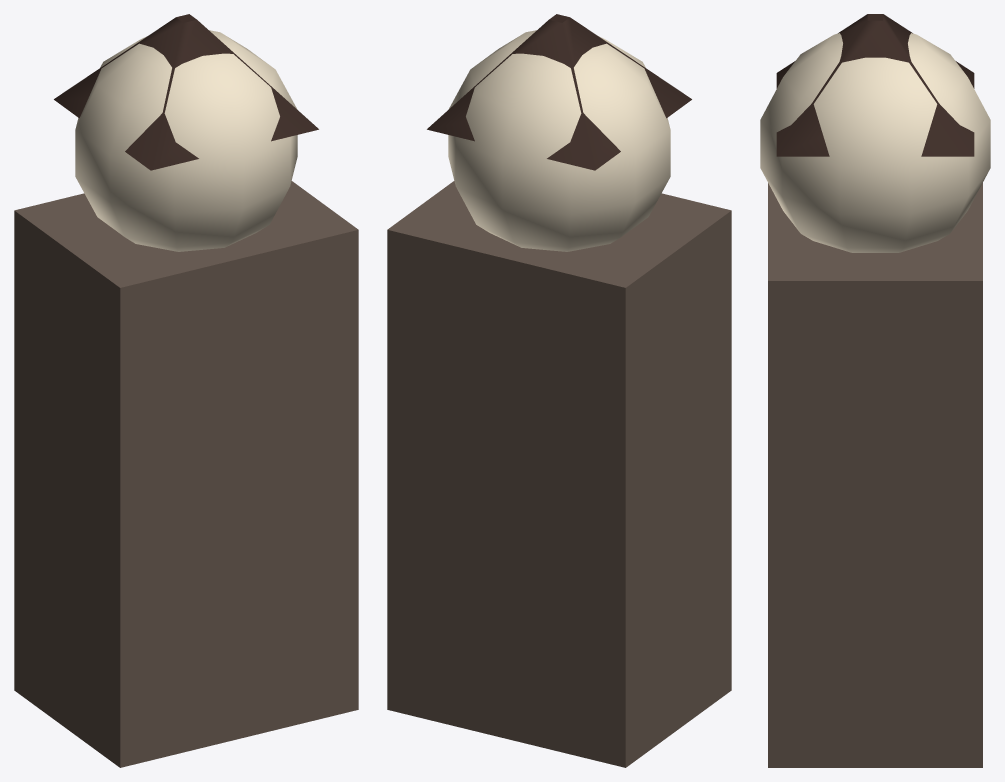
Rendered from pu_tong.glb.
3 views of the same model, side by side, from view 1: azimuth 30°, elevation 25°; view 2: azimuth 150°, elevation 25°; view 3: azimuth 270°, elevation 25° (orthographic).
Visible parts, largest first — view 1: _MeshInstance3D_3, _MeshInstance3D_4, _MeshInstance3D_5; view 2: _MeshInstance3D_3, _MeshInstance3D_4, _MeshInstance3D_5; view 3: _MeshInstance3D_3, _MeshInstance3D_4, _MeshInstance3D_5.
Part boxes in pixels (x1,y1,x2,y2): _MeshInstance3D_3: (14, 181, 358, 767); _MeshInstance3D_4: (75, 30, 297, 251); _MeshInstance3D_5: (54, 14, 318, 170); _MeshInstance3D_3: (387, 181, 731, 767); _MeshInstance3D_4: (448, 30, 670, 251); _MeshInstance3D_5: (427, 14, 691, 170); _MeshInstance3D_3: (768, 183, 982, 767); _MeshInstance3D_4: (760, 33, 990, 252); _MeshInstance3D_5: (776, 14, 974, 156).
Bounding box in the file's own units: 0.26 × 0.71 × 0.2145.
